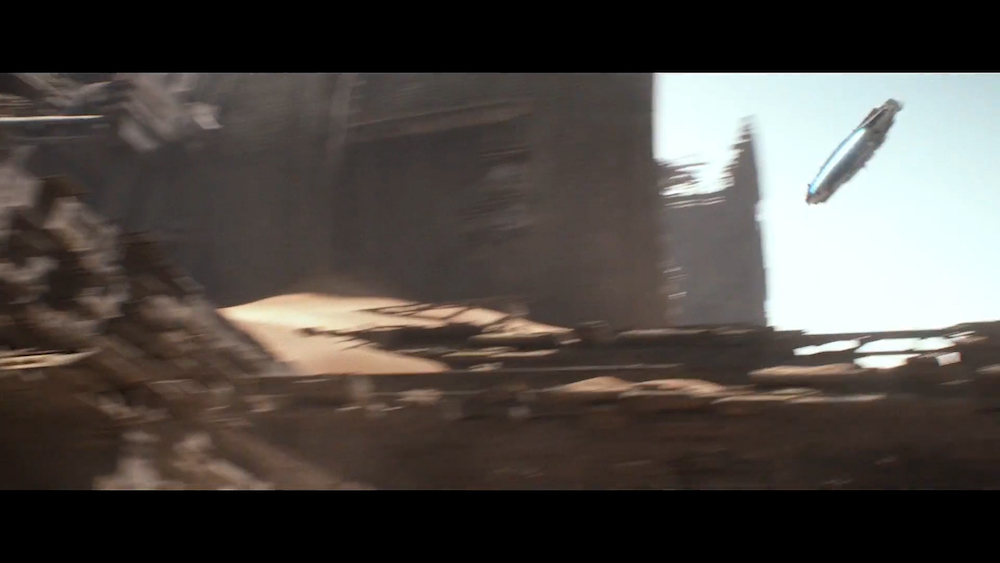Millennium Falcon: (805, 98, 905, 207)
